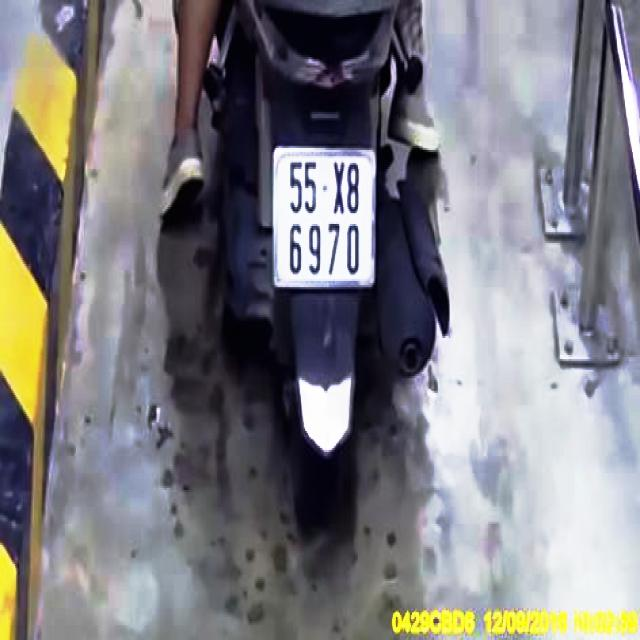license_plate: (278, 152, 379, 284)
